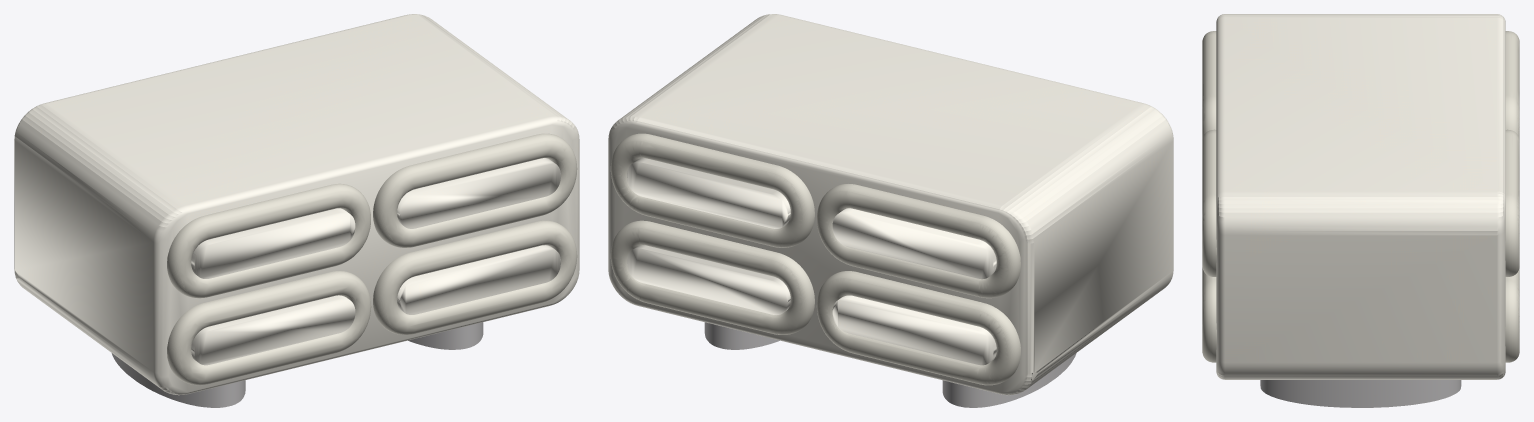
The model's file is right table 2.glb.
3 views of the same model, side by side, from view 1: azimuth 30°, elevation 25°; view 2: azimuth 150°, elevation 25°; view 3: azimuth 270°, elevation 25° (orthographic).
Parts seen in each view (by area): view 1: table_4; view 2: table_4; view 3: table_4.
Part boxes in pixels (x1=…): table_4: x1=14, y1=14, x2=579, y2=407; table_4: x1=608, y1=14, x2=1173, y2=407; table_4: x1=1202, y1=14, x2=1519, y2=407.
Size of the model in its own units: 1.52 by 0.7847 by 1.
1 material, 1 textured.
